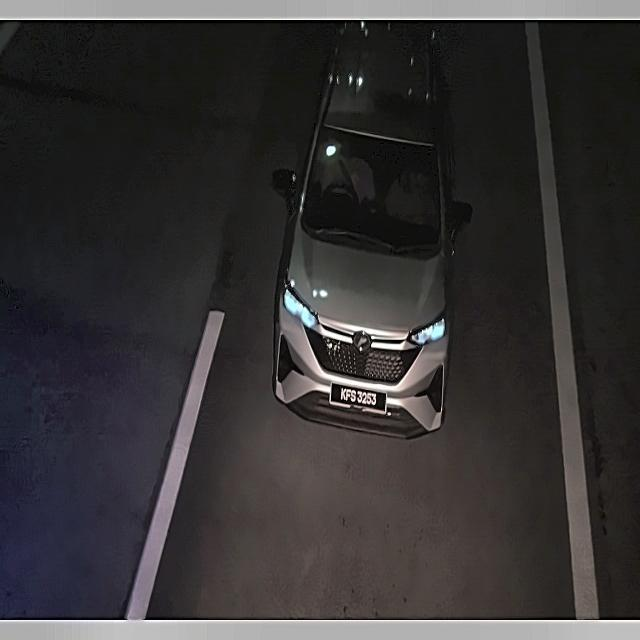car: (332, 379, 386, 422)
